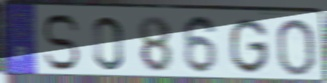0: (92, 15, 125, 72)
6: (182, 13, 223, 77)
8: (137, 15, 174, 75)
G: (229, 17, 271, 76)
O: (275, 17, 317, 78)
S: (40, 12, 81, 73)
